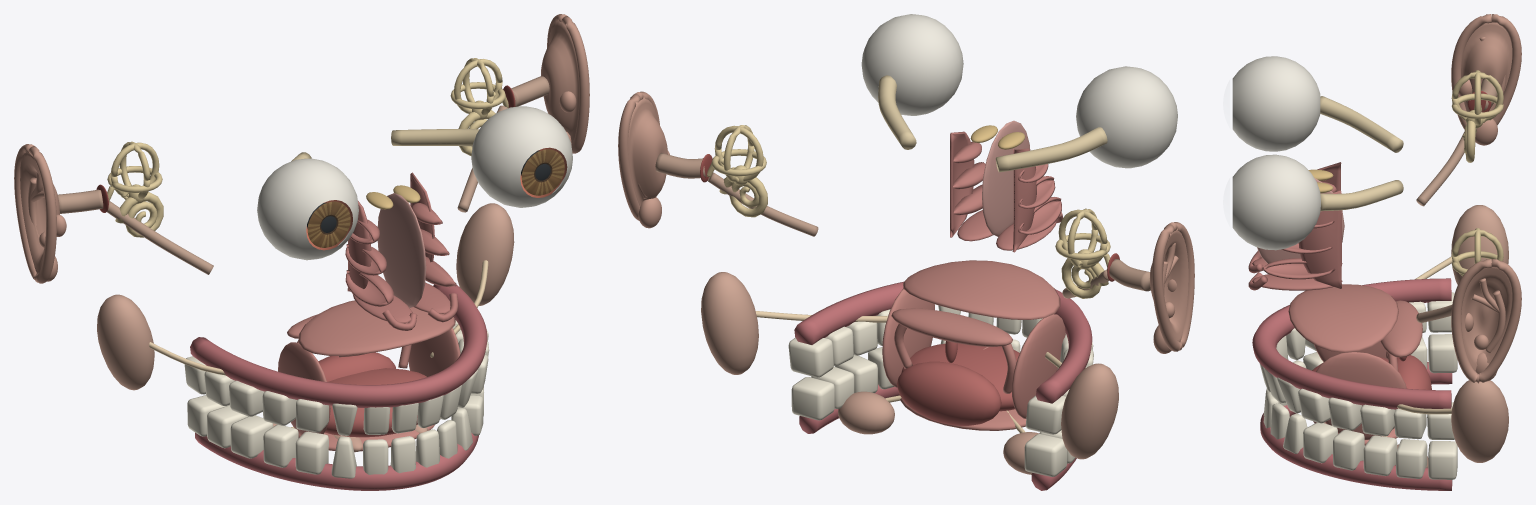
Rendered from lab-head-fitted-v12-normal.glb.
The picture shows the model from 3 angles, left to right: view 1: azimuth 30°, elevation 25°; view 2: azimuth 150°, elevation 25°; view 3: azimuth 270°, elevation 25°; orthographic projection. The views are drawn at different scales.
Parts seen in each view (by area): view 1: Study tooth True-1-7, Upper gums, Floor of mouth, Submandibular gland, Middle curved turbinate.001, Scleral shell, Scleral shell.001, Rounded septum, Tongue shaped muscular body, ear-right-ears-Nerve and ear structures, ear-left-Shaped pinna.001, ear-right-Rolled helix (+10 smaller); view 2: Floor of mouth, Submandibular gland, Study tooth True-1-7, Scleral shell, Tongue shaped muscular body, Scleral shell.001, Middle curved turbinate.001, Upper gums, ear-left-ears-Nerve and ear structures, ear-right-ears-Nerve and ear structures, ear-left-Shaped pinna.001, Rounded septum (+9 smaller); view 3: Study tooth True-1-7, Floor of mouth, Upper gums, Scleral shell, Scleral shell.001, Submandibular gland, Middle curved turbinate.001, ear-left-Rolled helix.001, ear-left-Shaped pinna.001, ear-right-Shaped pinna, ear-right-Rolled helix, ear-right-ears-Nerve and ear structures (+11 smaller).
Boxes of the visible parts, x1,y1,x2,y2 form: Study tooth True-1-7: (184,320,489,478); Upper gums: (190,284,487,490); Floor of mouth: (278,300,460,451); Submandibular gland: (97,203,514,452); Middle curved turbinate.001: (345,172,458,330); Scleral shell: (257,158,358,260); Scleral shell.001: (471,106,572,207); Rounded septum: (377,193,426,307); Tongue shaped muscular body: (318,352,426,437); ear-right-ears-Nerve and ear structures: (107,141,163,237); ear-left-Shaped pinna.001: (541,18,579,143); ear-right-Rolled helix: (14,144,56,283); Floor of mouth: (882,260,1065,430); Submandibular gland: (701,272,1118,474); Study tooth True-1-7: (788,305,1093,476); Scleral shell: (1076,66,1177,168); Tongue shaped muscular body: (896,341,1019,425); Scleral shell.001: (861,14,963,115); Middle curved turbinate.001: (950,131,1062,252); Upper gums: (794,281,1092,490); ear-left-ears-Nerve and ear structures: (707,125,767,217); ear-right-ears-Nerve and ear structures: (1055,208,1110,298); ear-left-Shaped pinna.001: (628,96,667,206); Rounded septum: (982,120,1030,236); Study tooth True-1-7: (1259,292,1457,479); Floor of mouth: (1288,284,1422,445); Upper gums: (1252,278,1452,490); Scleral shell: (1232,56,1320,151); Scleral shell.001: (1232,154,1320,250); Submandibular gland: (1324,205,1508,467); Middle curved turbinate.001: (1248,162,1342,290); ear-left-Rolled helix.001: (1451,259,1521,383); ear-left-Shaped pinna.001: (1461,261,1511,372); ear-right-Shaped pinna: (1461,23,1512,111); ear-right-Rolled helix: (1451,14,1521,129); ear-right-ears-Nerve and ear structures: (1451,70,1503,162).
Size of the model in its own units: 18.12 by 11.31 by 9.17.
